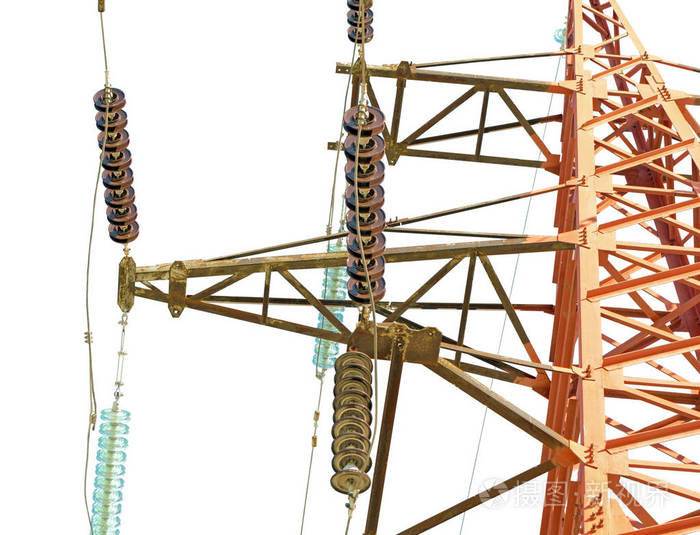insulator: (342, 102, 388, 303), (93, 86, 139, 243), (329, 353, 374, 499), (88, 407, 132, 535), (311, 242, 348, 370), (342, 1, 377, 46)
